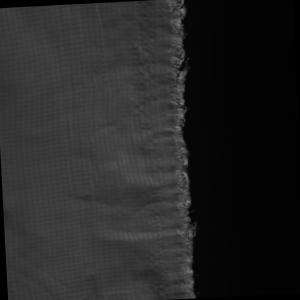Damage: (131, 1, 216, 300)
